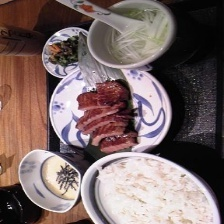rice: (96, 156, 220, 224)
